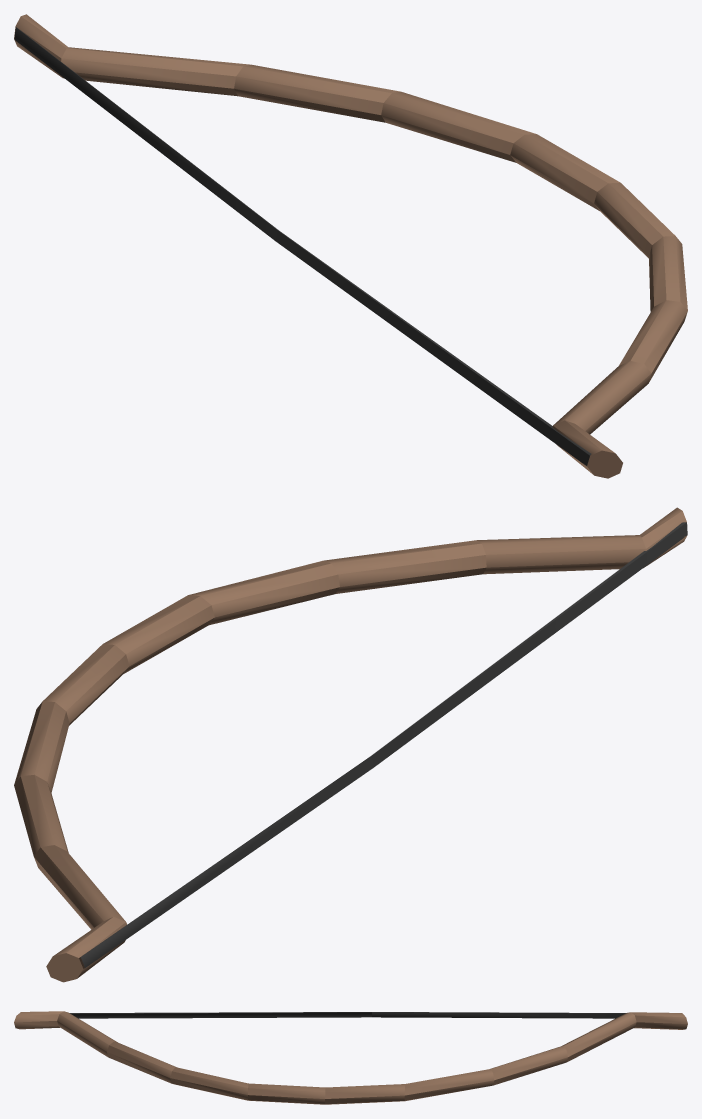
File: bow.fbx
3 renders of one model, top to bottom at view 1: azimuth 30°, elevation 25°; view 2: azimuth 150°, elevation 25°; view 3: azimuth 270°, elevation 25°, orthographic. The views are drawn at different scales.
Parts seen in each view (by area): view 1: bow; view 2: bow; view 3: bow.
Part boxes in pixels (box(x1,y1,x2,y2)): bow: box(14, 14, 687, 478); bow: box(14, 507, 687, 982); bow: box(14, 1011, 687, 1104).
Bounding box in the file's own units: 2729 × 268 × 9143.
